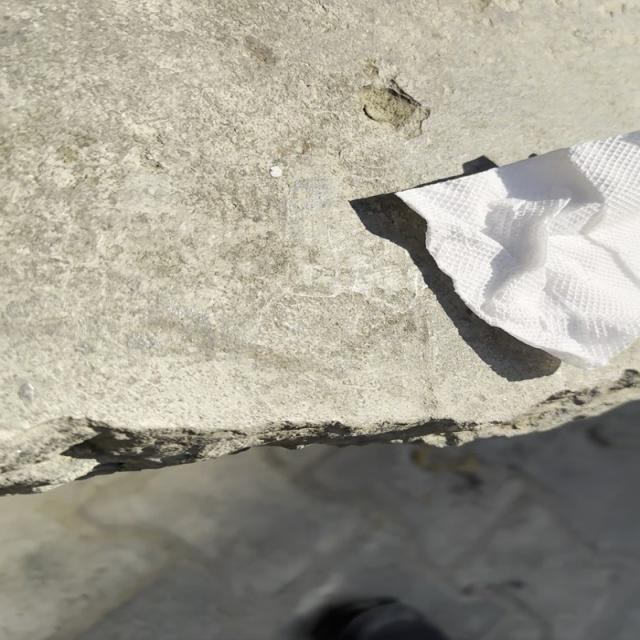tissue: (391, 126, 640, 383)
